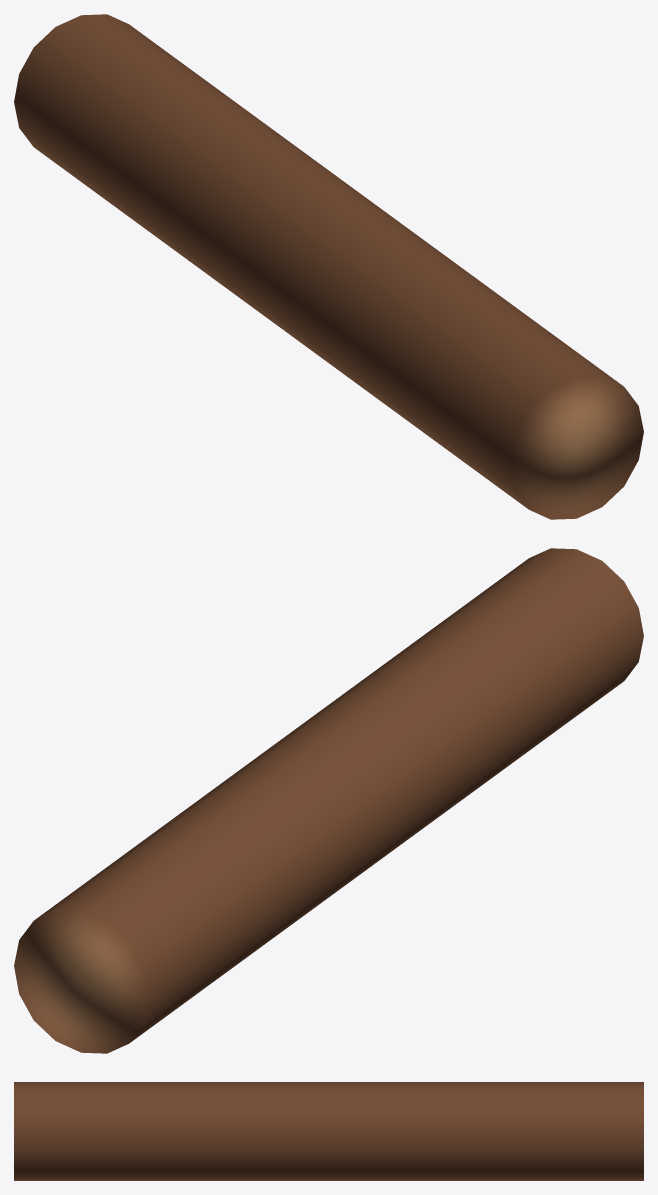
Rendered from timber_log.glb.
3 renders of one model, top to bottom at view 1: azimuth 30°, elevation 25°; view 2: azimuth 150°, elevation 25°; view 3: azimuth 270°, elevation 25°, orthographic. The views are drawn at different scales.
Parts seen in each view (by area): view 1: TimberLog; view 2: TimberLog; view 3: TimberLog.
Part boxes in pixels (x1,y1,x2,y2): TimberLog: [14, 14, 643, 519]; TimberLog: [14, 548, 643, 1053]; TimberLog: [14, 1082, 643, 1180].
Size of the model in its own units: 0.44 by 0.44 by 2.8.
